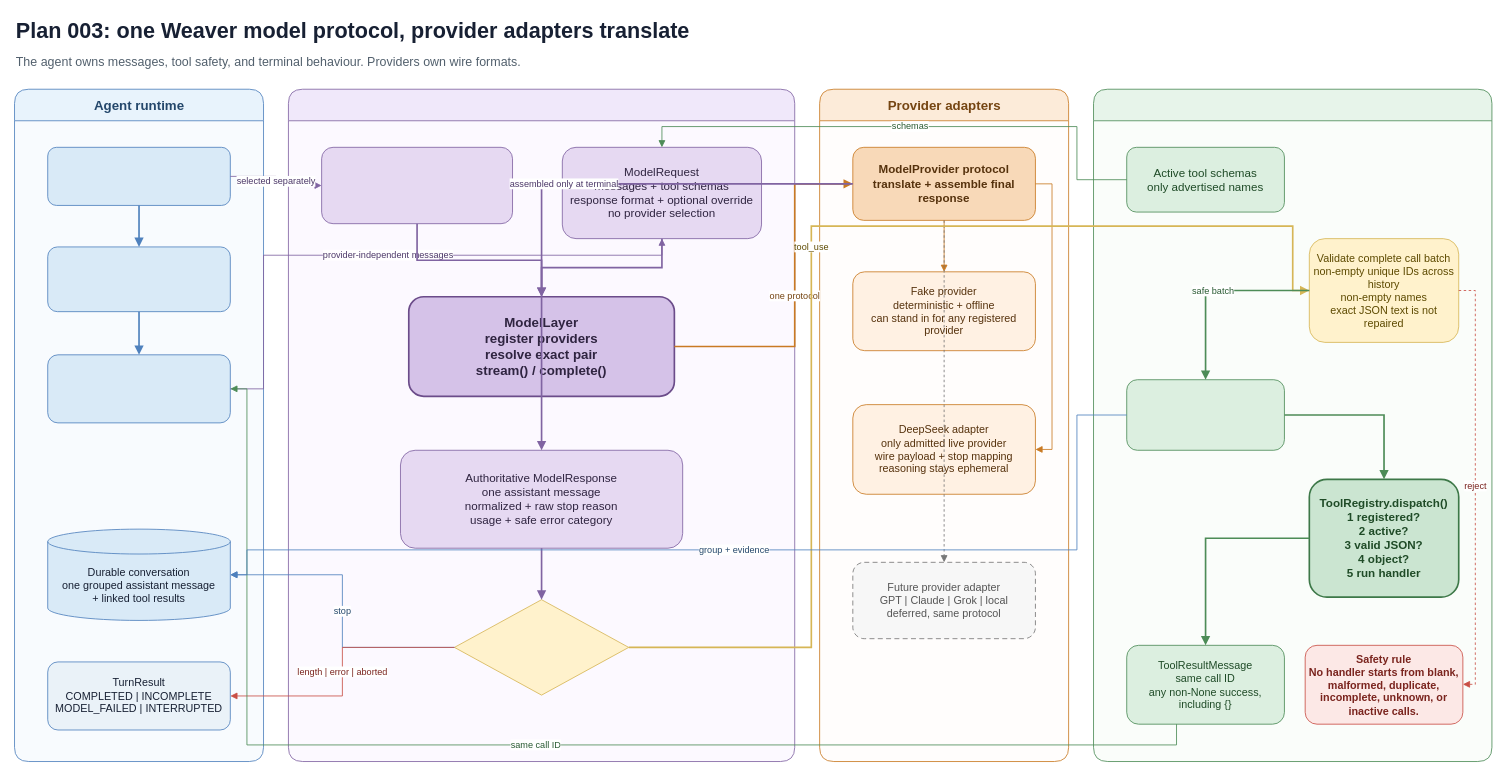
Some shapes in this 1506 by 776 pixel diagram are drawn without their labels. Each missing label, with the box of its shape:
AgentSession history + active tools: (47, 246, 230, 312)
CLI or caller selects ModelSpec: (47, 146, 230, 205)
ModelSpec provider ID + exact model ID API family + output default: (321, 146, 513, 224)
Persist grouped assistant before execution evidence: (1126, 379, 1284, 450)
project_messages() canonical history → ModelMessage: (47, 354, 230, 423)
Stop reason?: (454, 599, 629, 695)
Tool boundary: (1093, 88, 1492, 762)
Weaver model layer: (288, 88, 795, 762)
